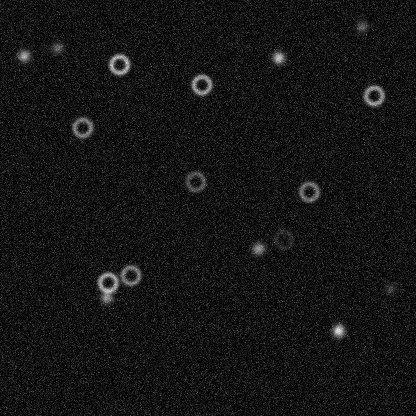Ring: (296, 179, 320, 203), (189, 72, 213, 96), (271, 227, 295, 251), (95, 270, 119, 294), (107, 52, 131, 76), (118, 263, 142, 287), (183, 169, 207, 193), (70, 115, 94, 139), (361, 83, 385, 107)
Spot: (382, 280, 398, 296), (16, 47, 32, 63), (250, 240, 266, 256), (270, 49, 286, 65), (98, 289, 114, 305), (330, 322, 346, 338), (353, 18, 369, 34), (48, 39, 64, 55)
